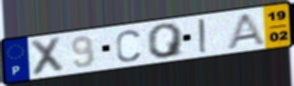9: (70, 34, 98, 70)
A: (225, 11, 270, 50)
C: (114, 28, 143, 64)
I: (197, 17, 210, 54)
Q: (146, 21, 186, 60)
X: (28, 35, 66, 78)
